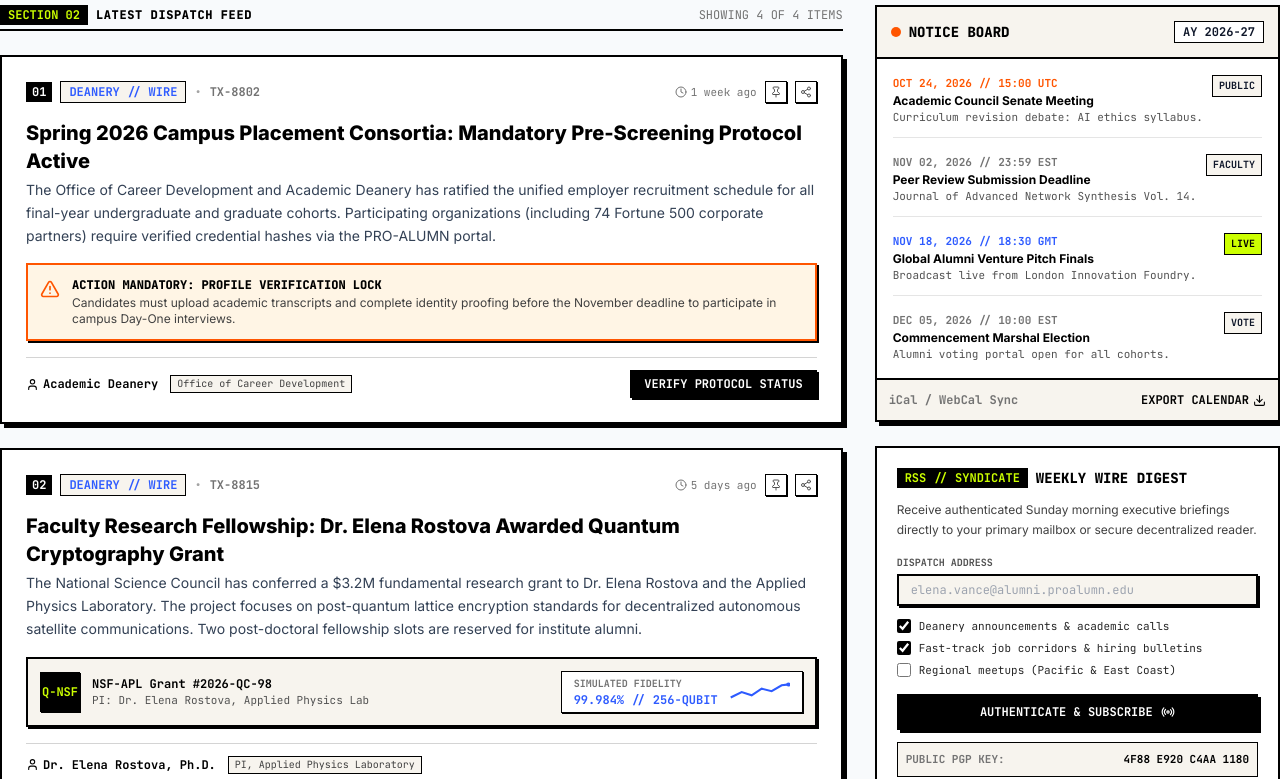
Test case: AnnouncementsContent (Neobrutalist Campus Wire) › exports calendar file when export calendar button is clicked
(page scrolled)
Click the button "EXPORT CALENDAR" at (1204, 400), box [1141,392,1266,408]
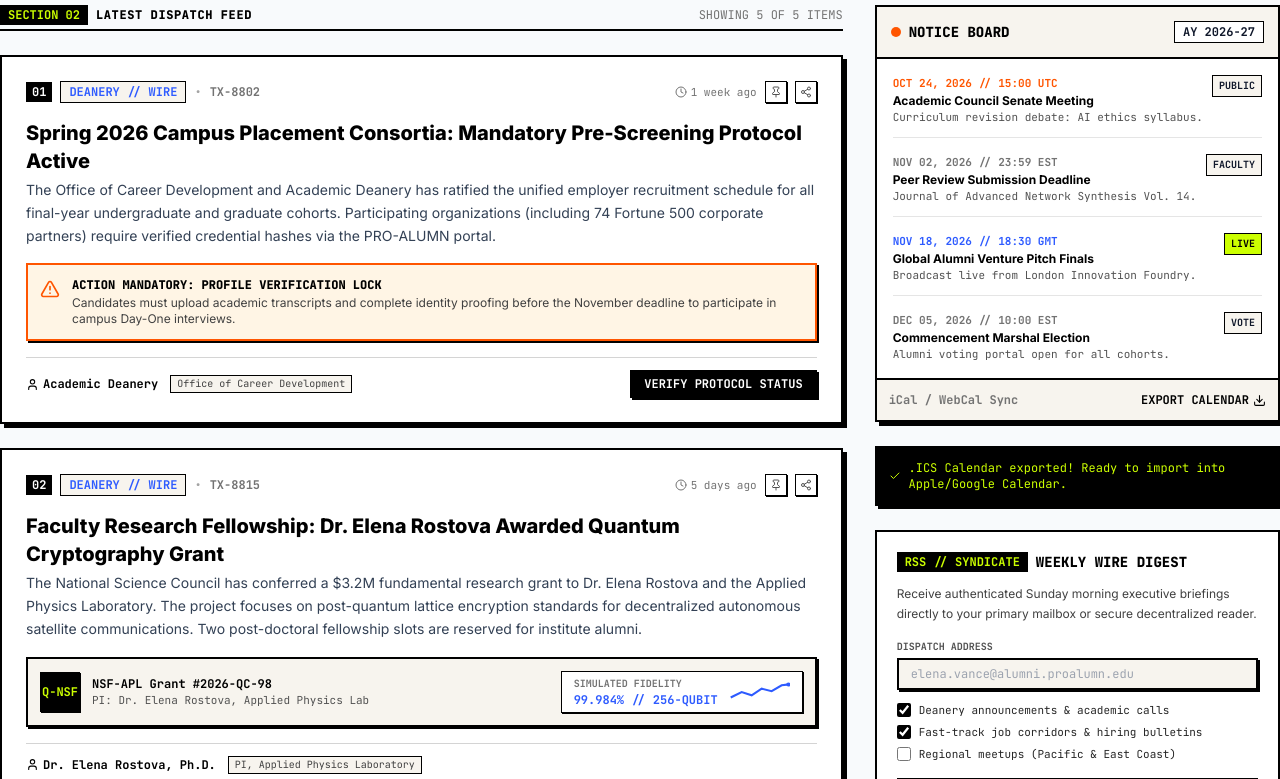
Check: the text ".ICS Calendar exported!" is shown, box [908,460,1225,492]
